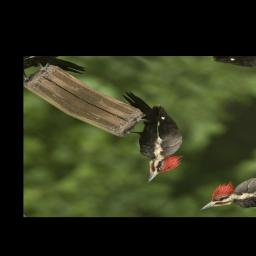Woodpecker: (64, 84, 224, 189)
